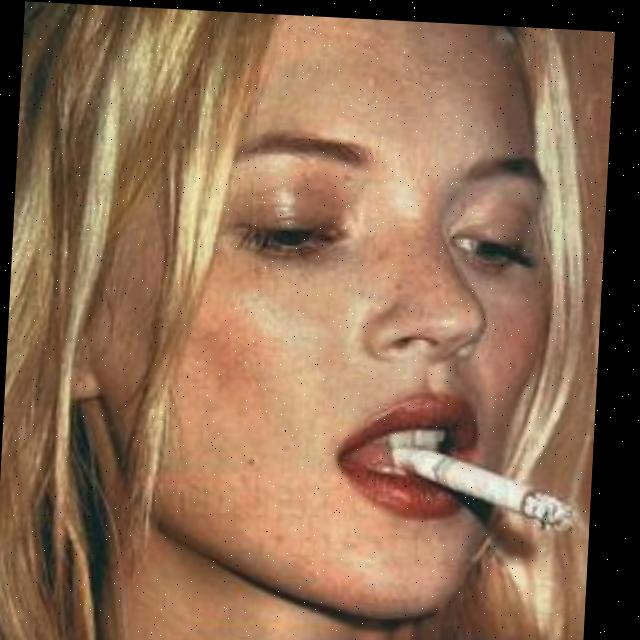cigarette: (393, 442, 583, 525)
